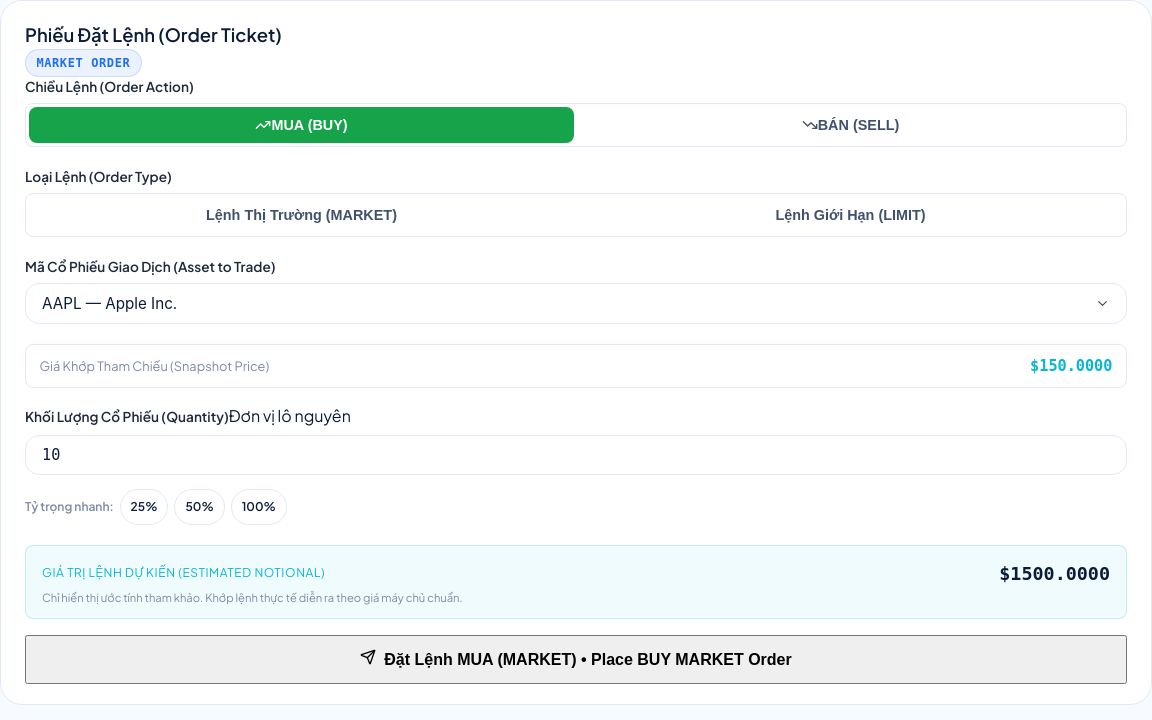
it: MarketOrderTicket (FEAT-074: AC-003, AC-007) › toggles order action between BUY and SELL
Click the radio button with test id "side-sell-button": (850, 125) [578,107,1123,143]
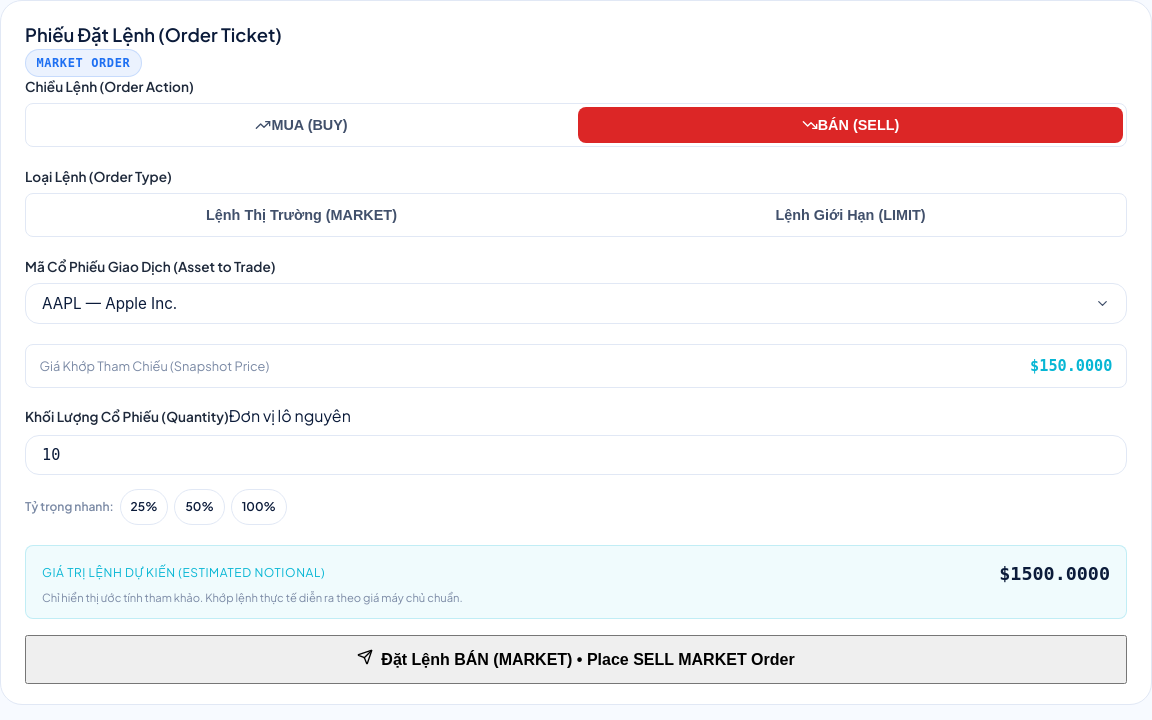
expect the button with test id "submit-order-button" shows "Place SELL MARKET Order": met, box [25,635,1127,684]
